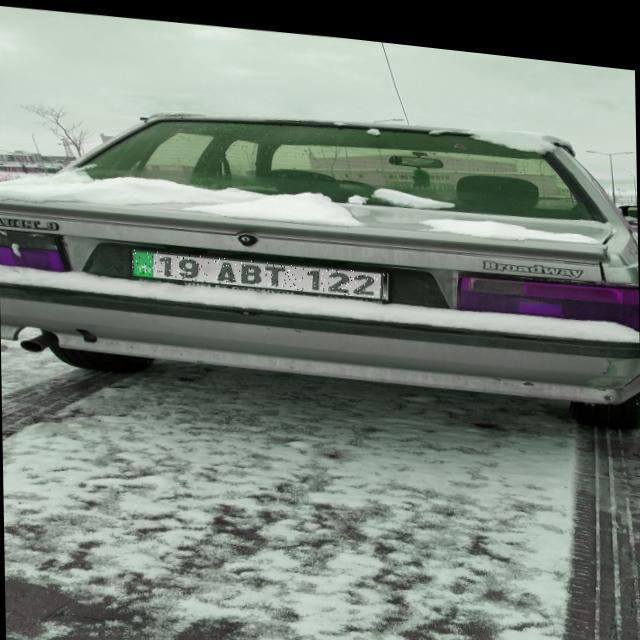license_plate: (132, 242, 386, 294)
